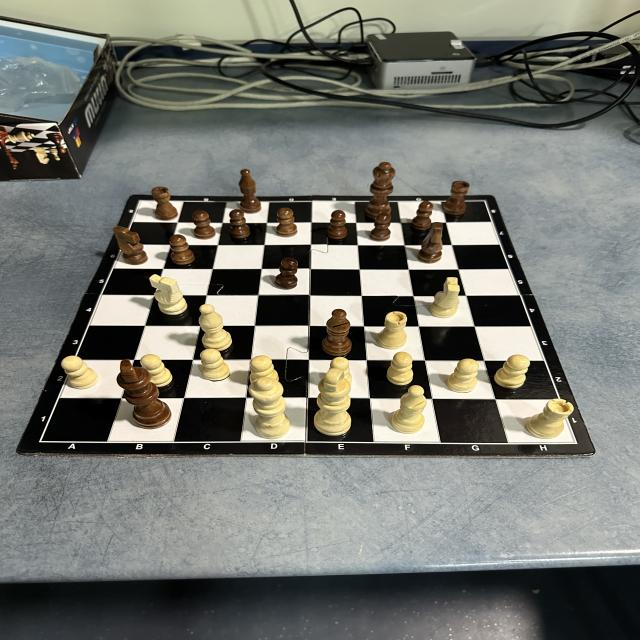Black-Bishop: (322, 308, 352, 356), (238, 168, 262, 214)
Black-King: (116, 358, 173, 429)
Black-Knight: (113, 226, 148, 265), (418, 222, 443, 263)
Black-Pawn: (169, 234, 196, 265), (274, 257, 299, 289), (191, 209, 216, 240), (411, 201, 434, 231), (369, 212, 392, 242), (275, 207, 298, 237), (228, 209, 251, 239), (327, 209, 348, 240)
Black-Queen: (364, 161, 396, 220)
Black-Rook: (441, 180, 470, 216), (151, 187, 179, 220)
White-Bishop: (390, 385, 427, 434), (198, 304, 233, 351)
White-King: (313, 368, 352, 436)
White-Knight: (148, 274, 188, 316), (429, 276, 460, 319)
White-Pawn: (494, 354, 530, 389), (61, 356, 98, 390), (446, 358, 479, 393), (140, 354, 173, 388), (200, 349, 231, 381), (386, 351, 414, 386), (249, 355, 280, 381), (330, 356, 352, 382)
White-Queen: (248, 376, 291, 439)
White-Rook: (525, 398, 574, 439), (377, 311, 407, 349)
